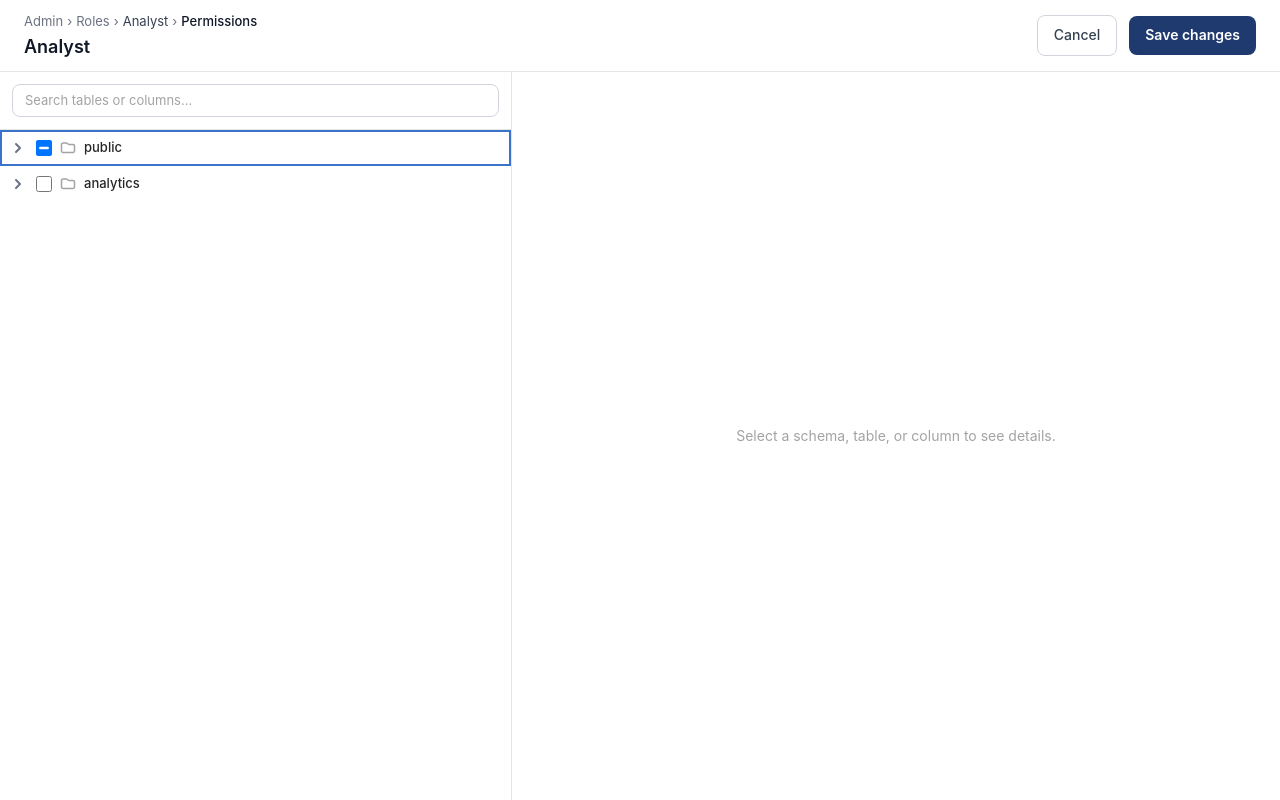
Test: PermissionEditorPage › tri-state checkboxes › table checkbox is checked when table grant exists
The width and height of the screenshot is (1280, 800).
Expected: the text "public" is shown, [84,139,122,155]
# Expand public schema
Click the button named "Expand" next to "public" at (18, 148), box [8,138,28,158]
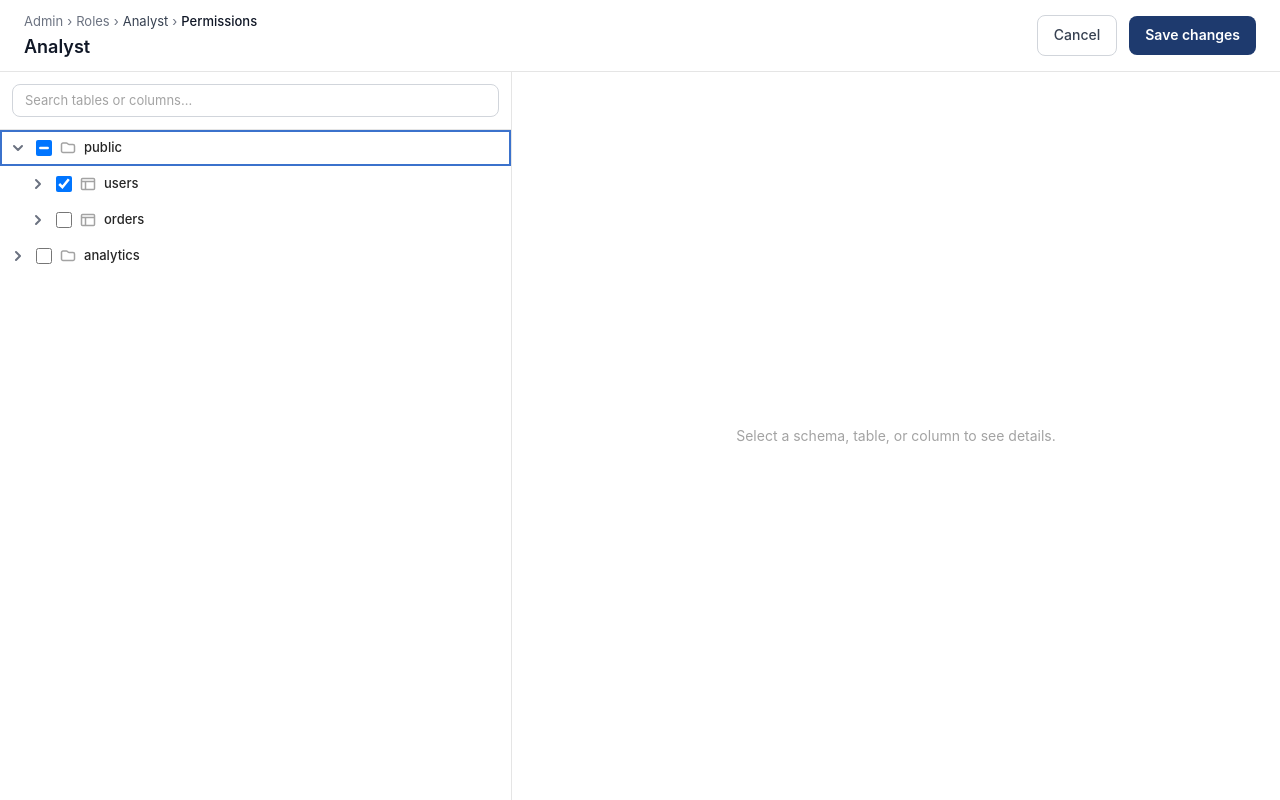
Now the text "users" is shown, box [104,175,138,191]
Now the checkbox named "users — granted" is checked, box [56,176,72,192]
